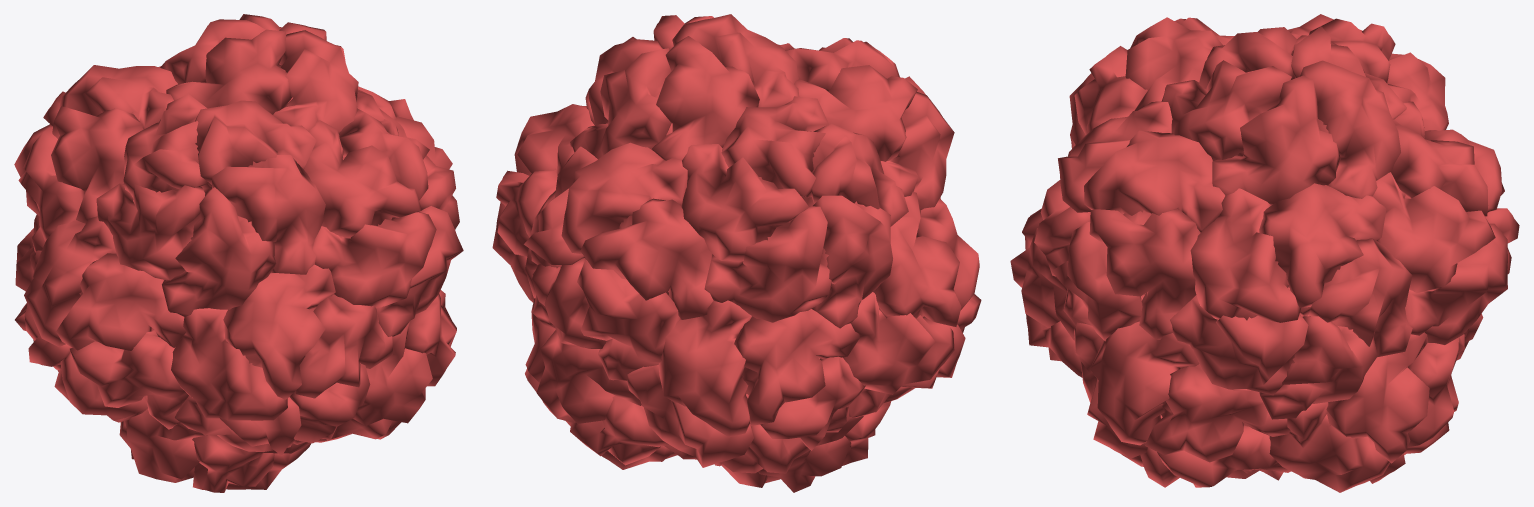
Rendered from 2BUK_lowest.glb.
The picture shows the model from 3 angles, left to right: view 1: azimuth 30°, elevation 25°; view 2: azimuth 150°, elevation 25°; view 3: azimuth 270°, elevation 25°; orthographic projection. The views are drawn at different scales.
Size of the model in its own units: 200 by 199 by 199.
